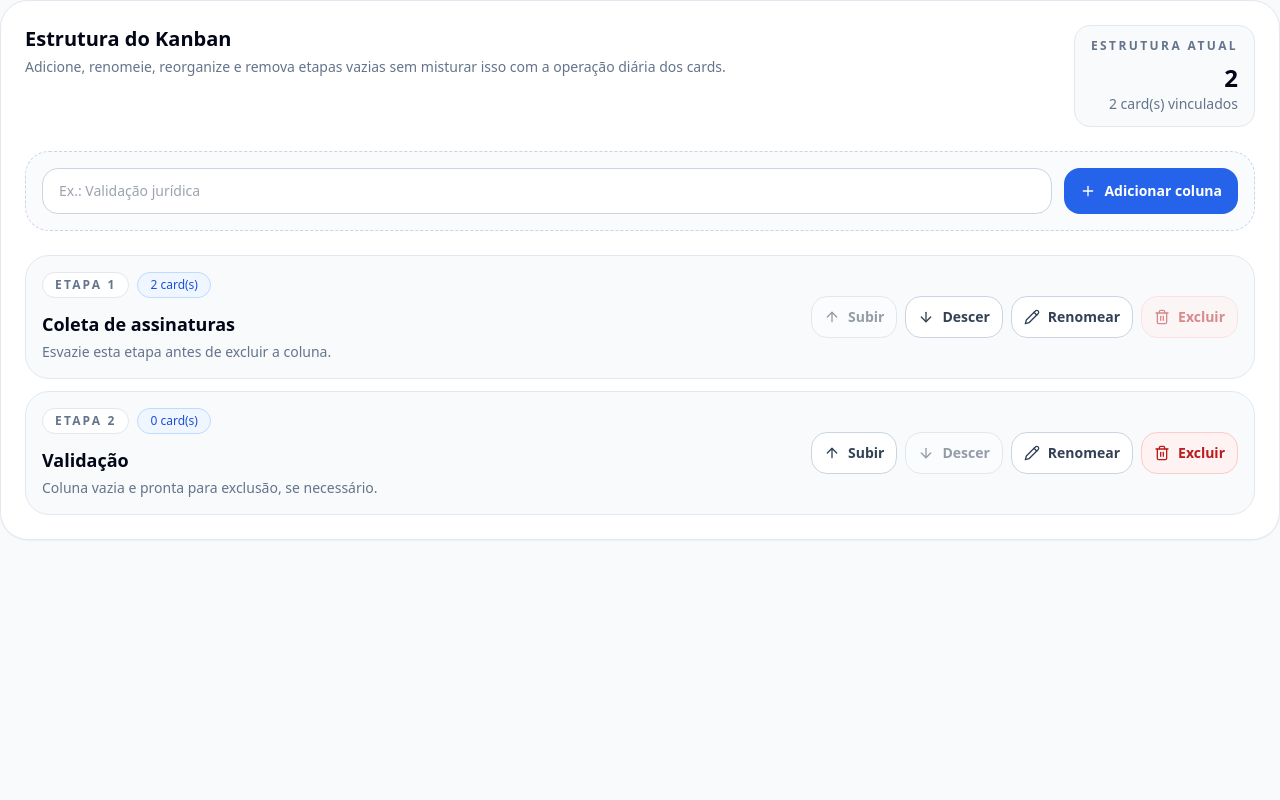
Test: KanbanColumnManager › reorders columns using the move buttons
Expected: the text "Coleta de assinaturas" is shown, left=42, top=312, right=235, bottom=336
Click the button "Descer" in the row of "Coleta de assinaturas" at coordinates (954, 317), box left=905, top=296, right=1003, bottom=338
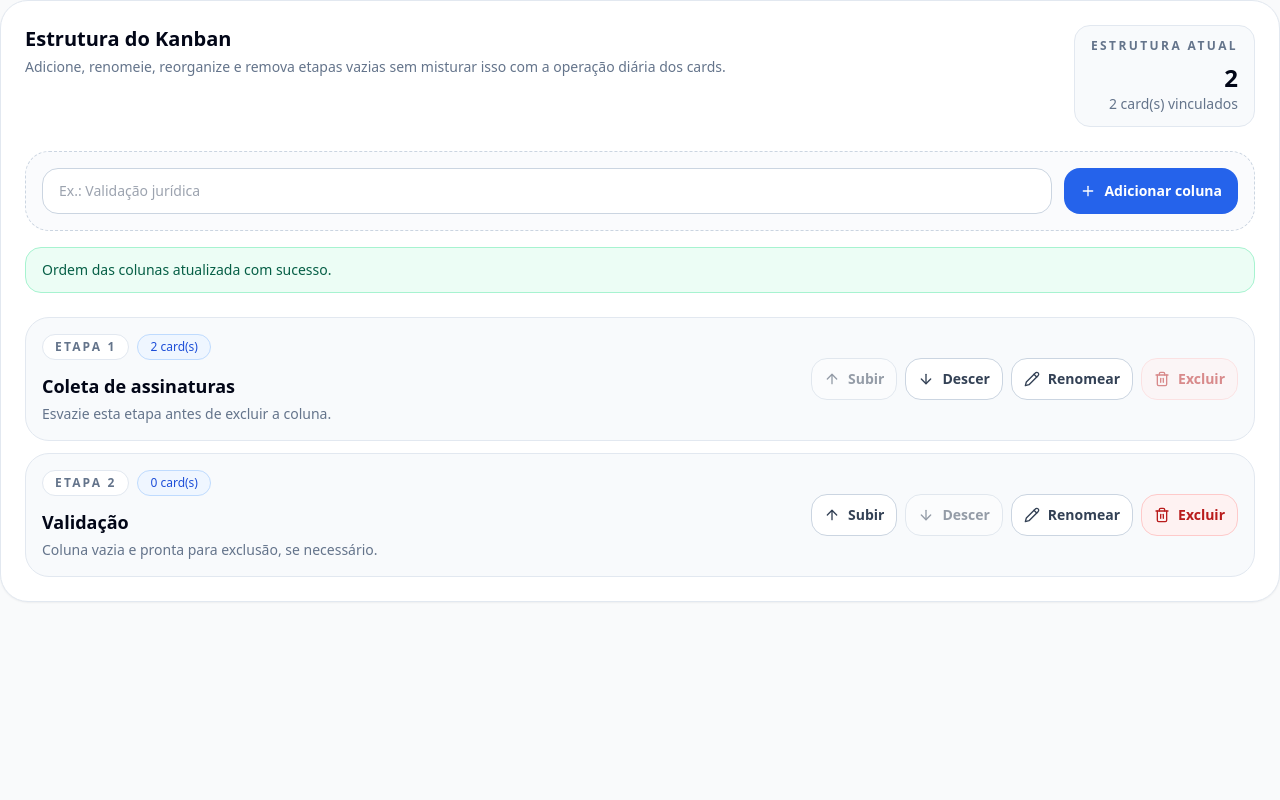
Now the text "Ordem das colunas atualizada com sucesso." is shown, box left=25, top=247, right=1255, bottom=293
